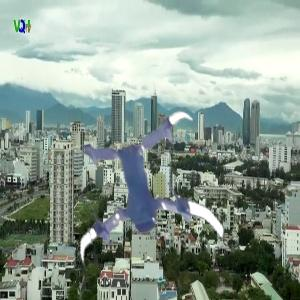drone: (60, 120, 228, 288)
